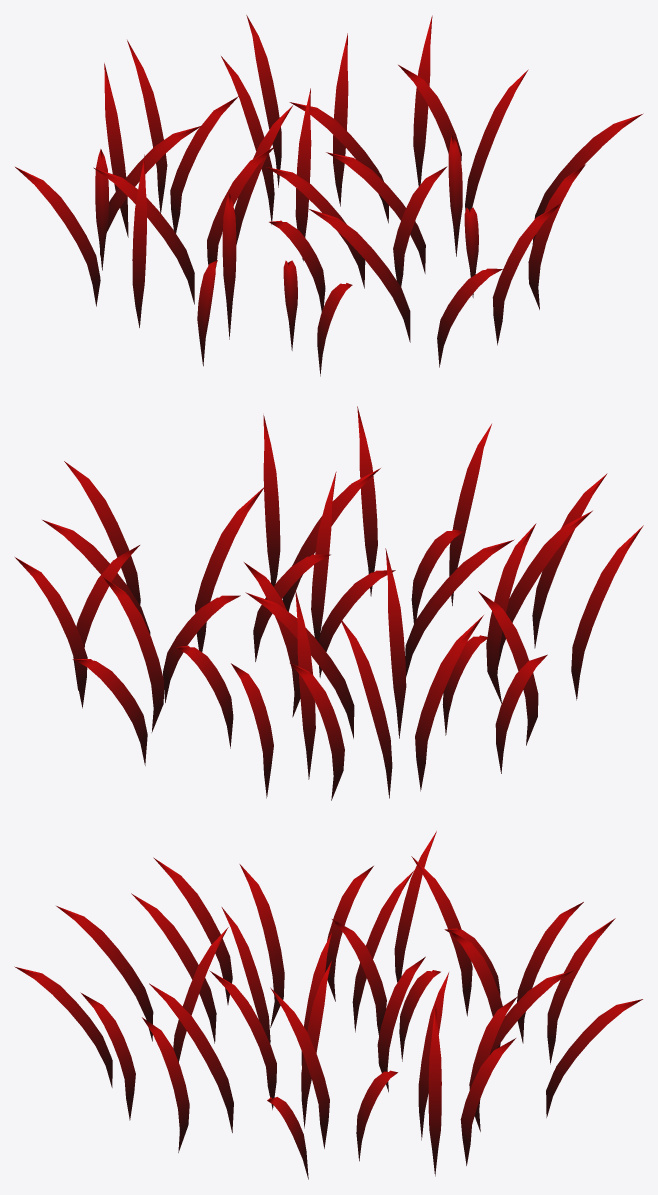
The model's file is grama_modelo.fbx.
3 views of the same model, one above another, from view 1: azimuth 30°, elevation 25°; view 2: azimuth 150°, elevation 25°; view 3: azimuth 270°, elevation 25° (orthographic). The views are drawn at different scales.
Parts seen in each view (by area): view 1: Plane.001; view 2: Plane.001; view 3: Plane.001.
Boxes of the visible parts, x1,y1,x2,y2 form: Plane.001: (15, 15, 643, 376); Plane.001: (15, 406, 643, 800); Plane.001: (14, 831, 642, 1179).
Size of the model in its own units: 698 by 203 by 726.
